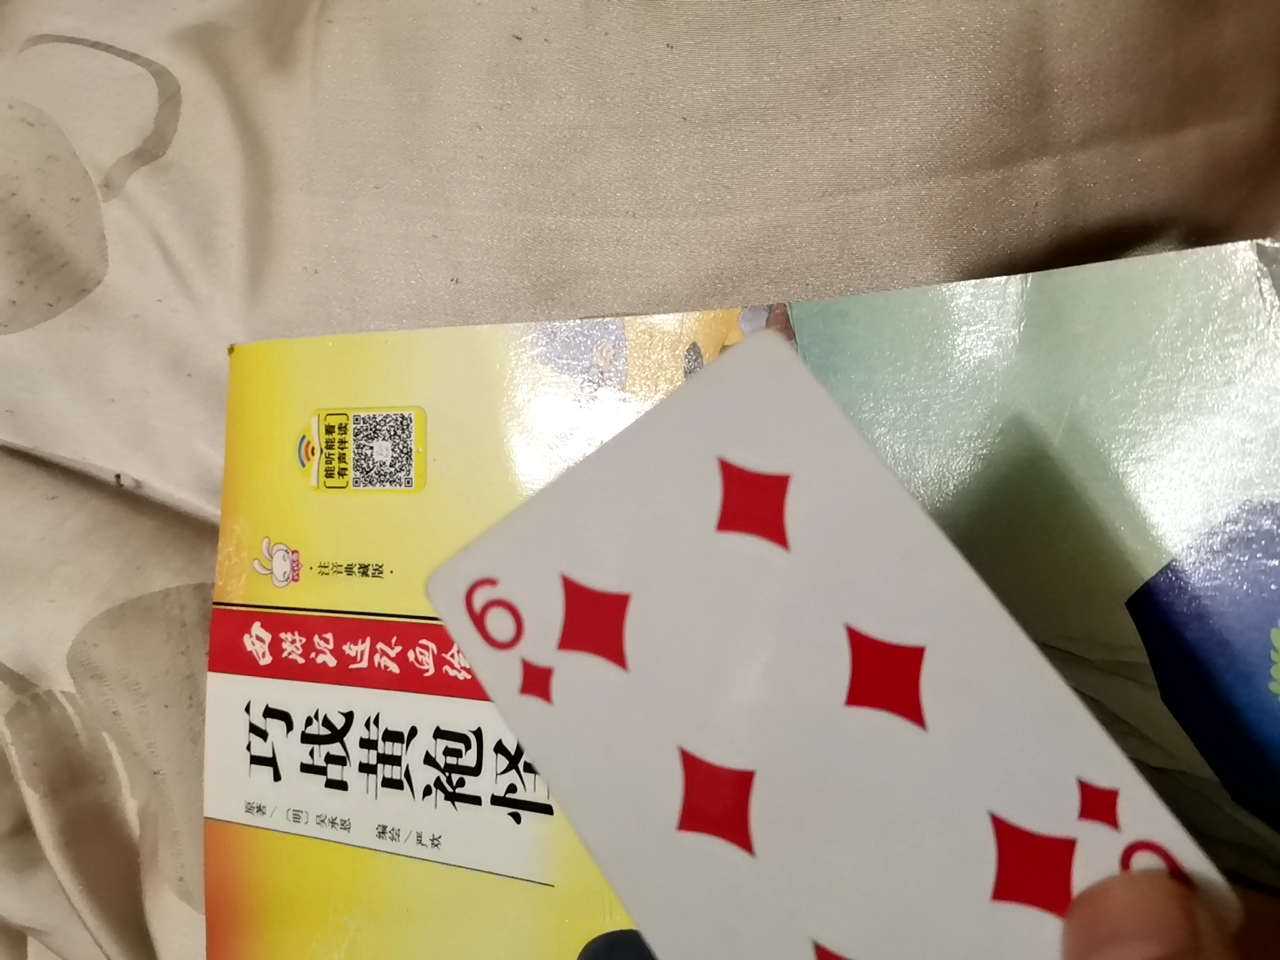fk 6: (483, 285, 1234, 949)
